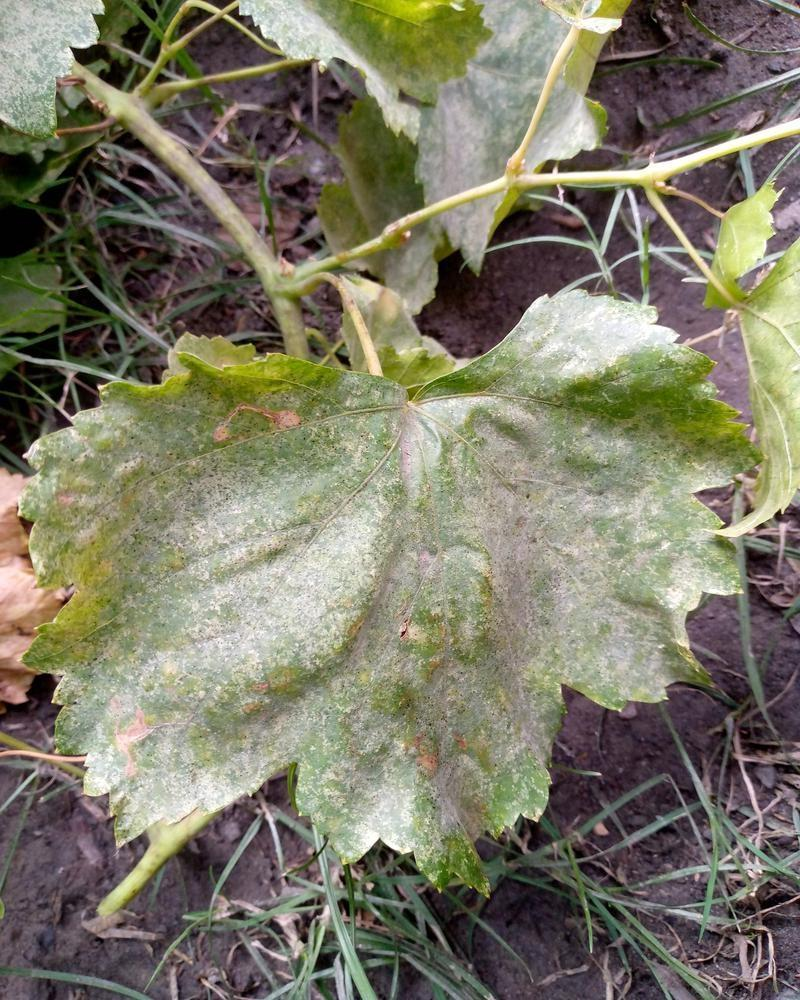Powdery-Mildew: (559, 455, 731, 700), (191, 493, 383, 687), (69, 669, 247, 834), (27, 404, 161, 574), (389, 669, 508, 847), (343, 381, 534, 491), (503, 295, 667, 388), (183, 394, 318, 471)
